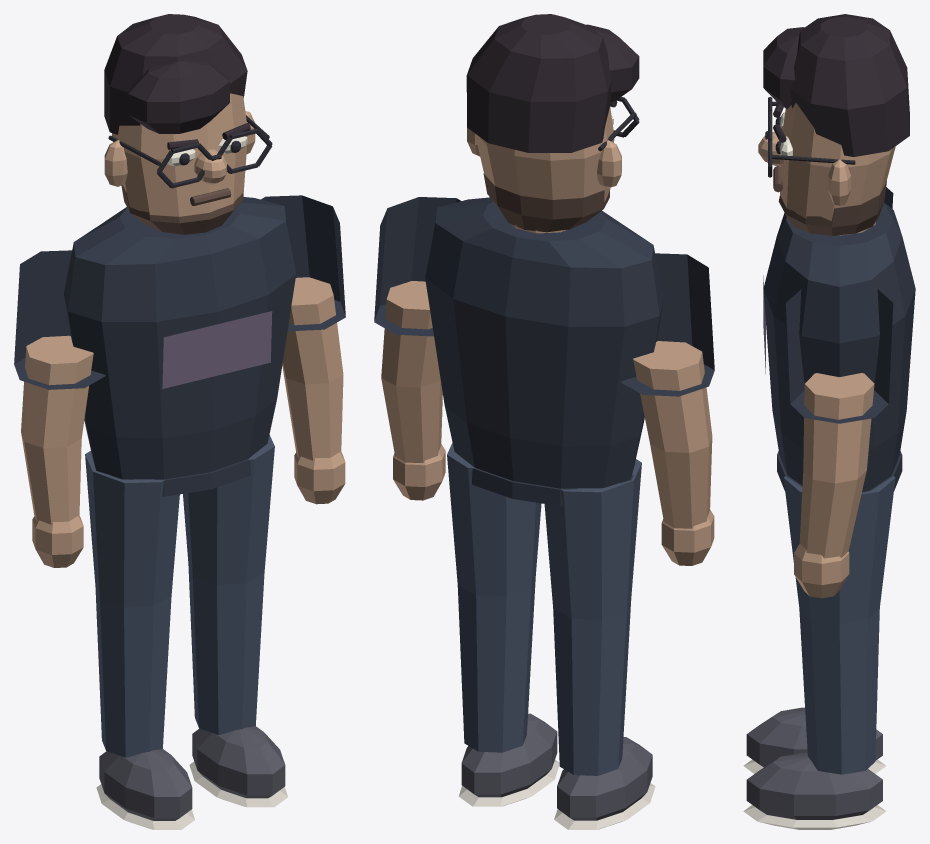
The model's file is vito.glb.
3 views of the same model, side by side, from view 1: azimuth 30°, elevation 25°; view 2: azimuth 150°, elevation 25°; view 3: azimuth 270°, elevation 25° (orthographic). The views are drawn at different scales.
Parts seen in each view (by area): view 1: Torso, Leg, Leg.001, Arm, Arm.001, Hair, Face, Fringe, ShirtPrint, Shoe.001, Shoe, Sleeve (+9 smaller); view 2: Torso, Leg, Leg.001, Hair, Arm, Arm.001, Face, Sleeve, Sleeve.001, Shoe.001, Shoe, Beard (+7 smaller); view 3: Torso, Leg.001, Hair, Arm.001, Shoe.001, Face, Sleeve.001, Shoe, Beard, Fringe, Hand.001, Sole.001 (+4 smaller).
Boxes of the visible parts, x1,y1,x2,y2 form: Torso: (63, 197, 296, 479); Leg: (85, 450, 179, 757); Leg.001: (183, 435, 274, 734); Arm: (21, 335, 93, 524); Arm.001: (282, 277, 343, 460); Hair: (104, 14, 247, 134); Face: (112, 93, 247, 216); Fringe: (128, 61, 229, 133); ShirtPrint: (162, 311, 272, 388); Shoe.001: (192, 726, 285, 798); Shoe: (99, 749, 192, 820); Sleeve: (14, 250, 106, 389); Torso: (425, 197, 663, 488); Leg: (544, 459, 641, 775); Leg.001: (447, 442, 541, 752); Hair: (466, 14, 611, 152); Arm: (633, 341, 712, 528); Arm.001: (381, 281, 442, 462); Face: (475, 106, 614, 202); Sleeve: (620, 253, 714, 396); Sleeve.001: (374, 197, 461, 336); Shoe.001: (461, 713, 557, 797); Shoe: (557, 737, 652, 820); Beard: (483, 173, 609, 232); Torso: (763, 202, 915, 491); Leg.001: (783, 476, 895, 774); Hair: (789, 14, 909, 156); Arm.001: (799, 373, 874, 558); Shoe.001: (746, 753, 882, 819); Face: (780, 103, 895, 220); Sleeve.001: (786, 289, 893, 423); Shoe: (746, 707, 882, 767); Beard: (778, 181, 886, 235); Fringe: (763, 27, 804, 108); Hand.001: (794, 544, 849, 598); Sole.001: (743, 805, 886, 829).
Bounding box in the file's own units: 0.828 × 1.9 × 0.385.
